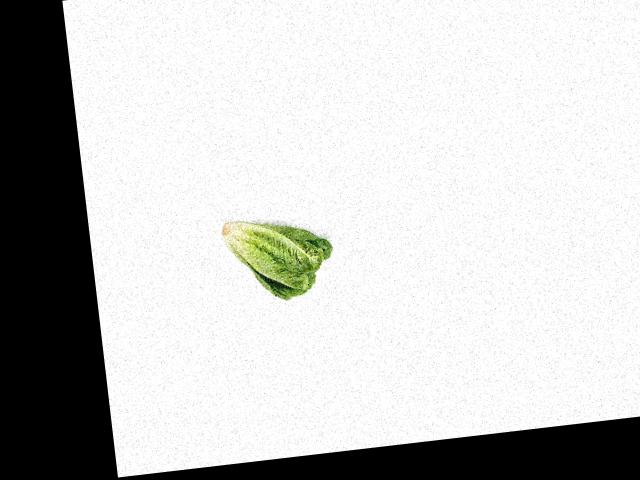lettuce: (213, 207, 337, 306)
